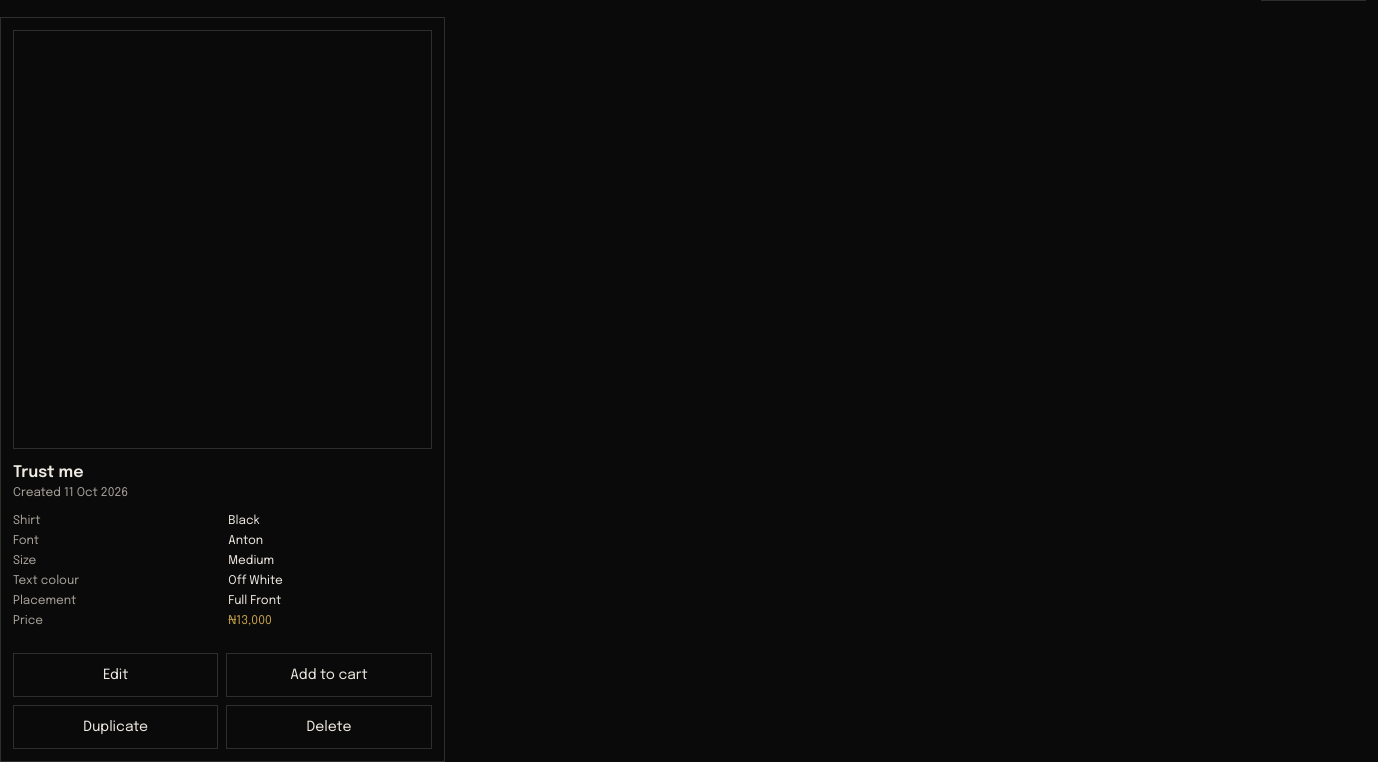
Test: DesignGallery › deletes only after a confirming second press
(page scrolled)
Click the button with aria-label "Delete Trust me".
click(329, 727)  # box [226,705,432,749]
(page scrolled)
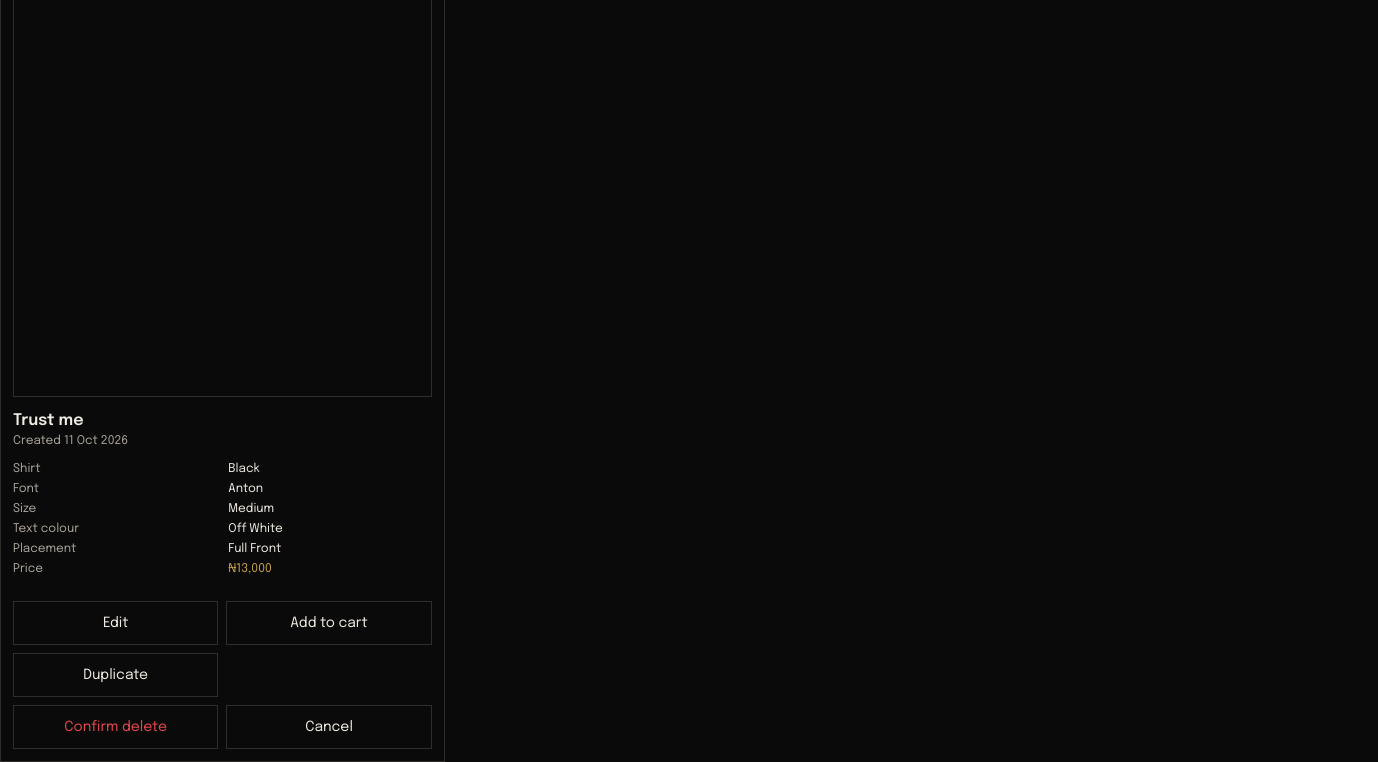
Click the button "Confirm delete".
click(116, 727)  # box [13,705,218,749]
(page scrolled)
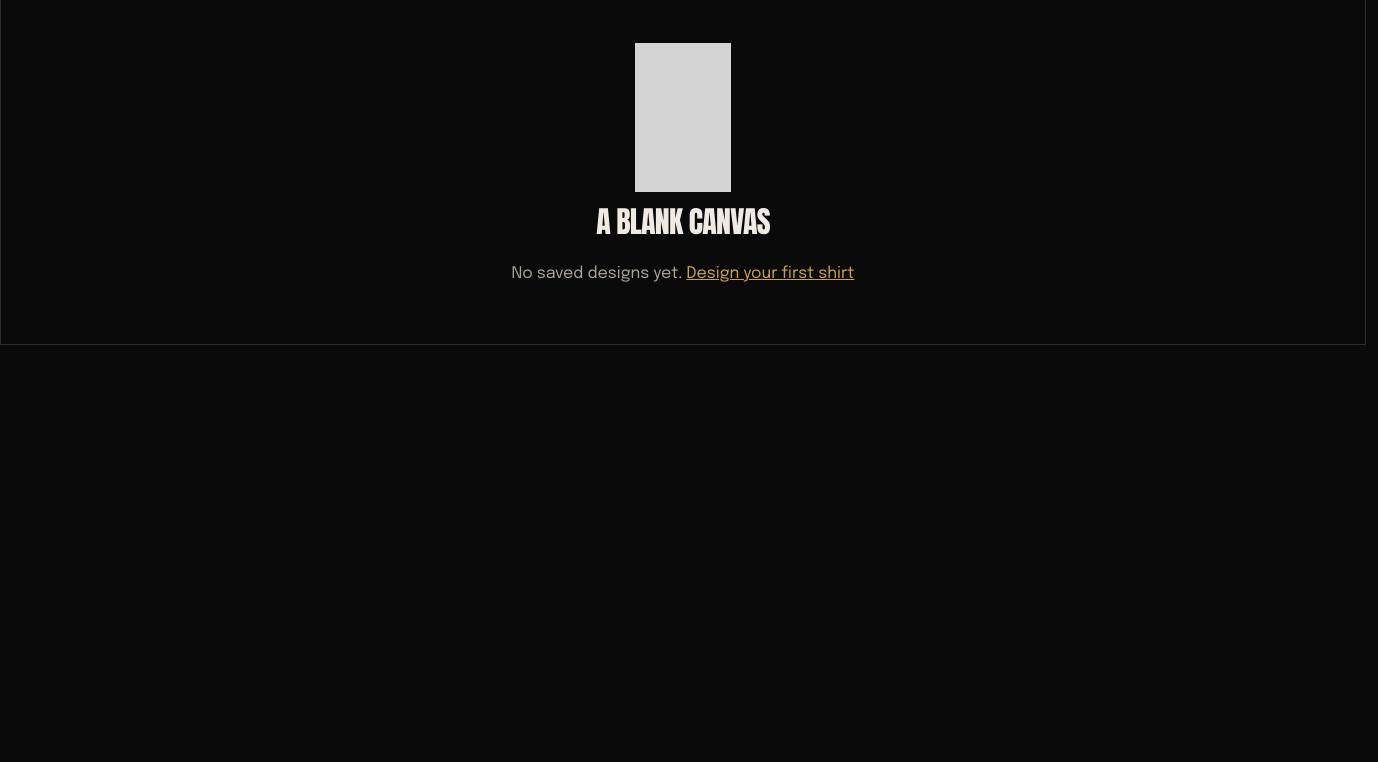
Check: the text "No saved designs yet. Design your first shirt" is shown, box [512,265,854,282]
